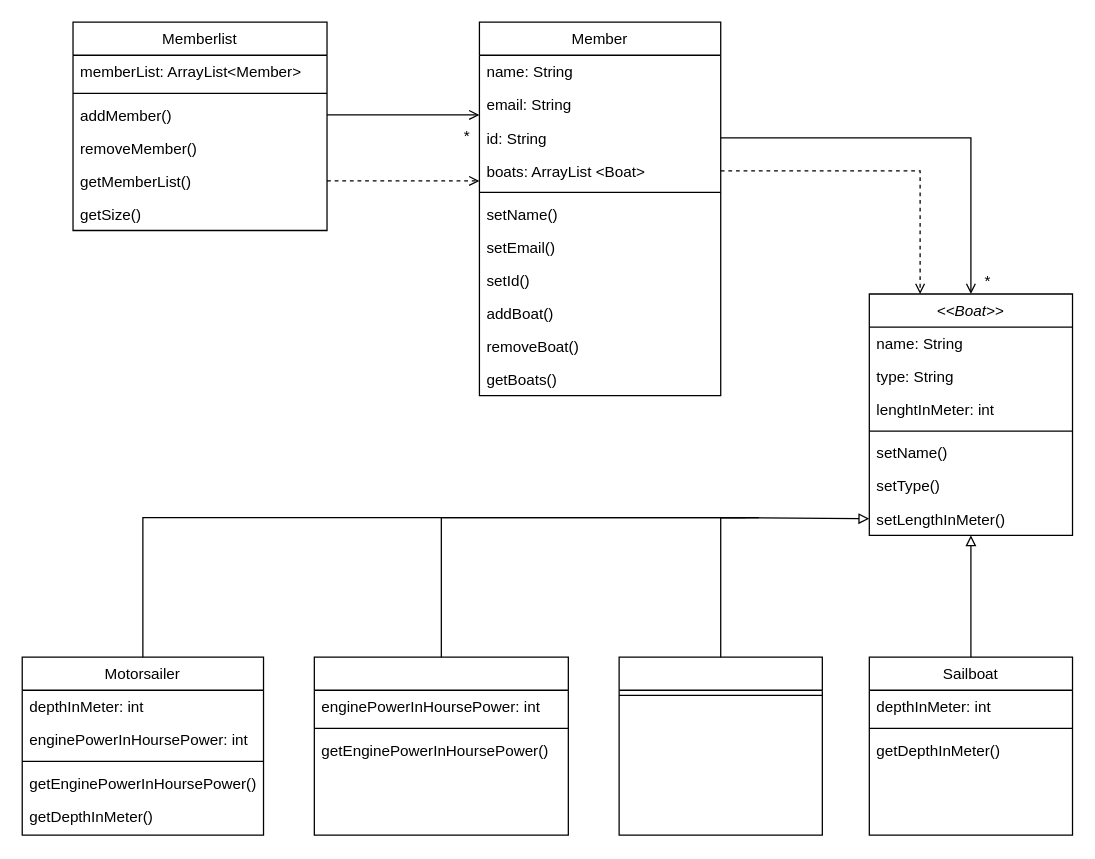
Image size: 1095x859. Some labels were removed from this diagram. Each missing label, with the box of its shape:
Canoe: (618, 656, 822, 835)
Motorboat: (313, 656, 568, 835)
